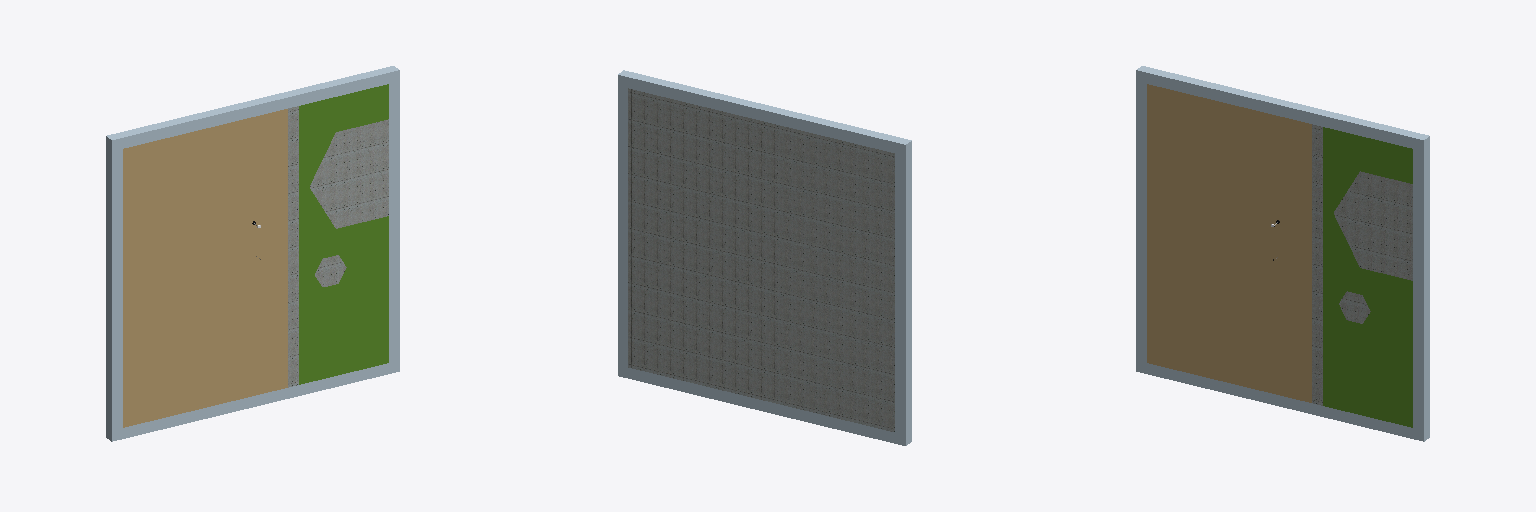
The picture shows the model from 3 angles: view 1: azimuth 30°, elevation 25°; view 2: azimuth 150°, elevation 25°; view 3: azimuth 330°, elevation 25°; orthographic projection.
Parts seen in each view (by area): view 1: Mesh5 Model; view 2: Mesh5 Model; view 3: Mesh5 Model.
Part boxes in pixels (bbox=[...]): Mesh5 Model: bbox=[106, 66, 399, 441]; Mesh5 Model: bbox=[618, 70, 911, 445]; Mesh5 Model: bbox=[1136, 66, 1429, 441].
Size of the model in its own units: 27 by 27 by 2.01.
10 materials, 1 textured.